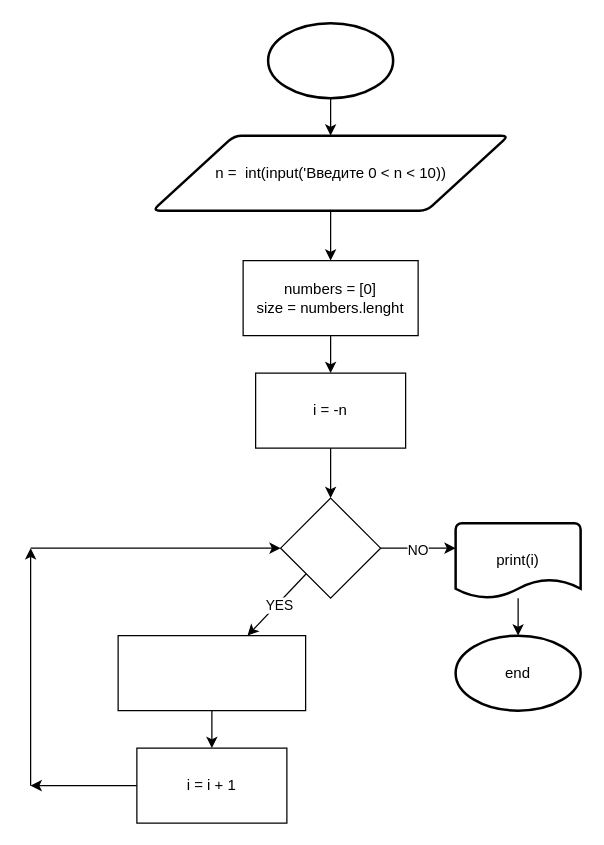
This 604x845 diagram has some shape labels left out. Each missing label, with the centre of its shape:
i <= n?: [330,547]
print (i): [211,672]
start: [330,60]
